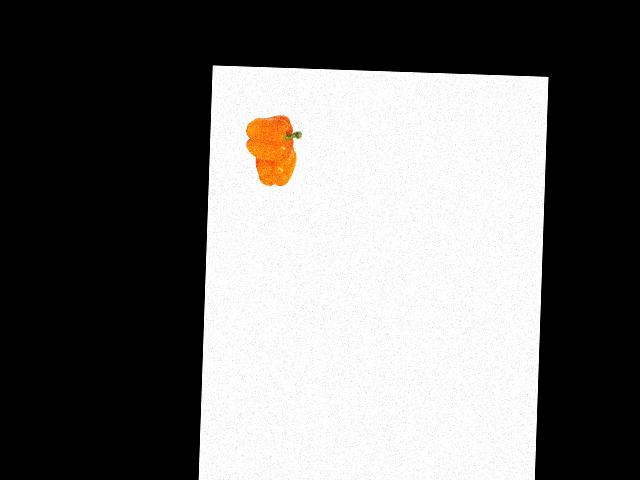bell_pepper: (249, 144, 298, 190)
